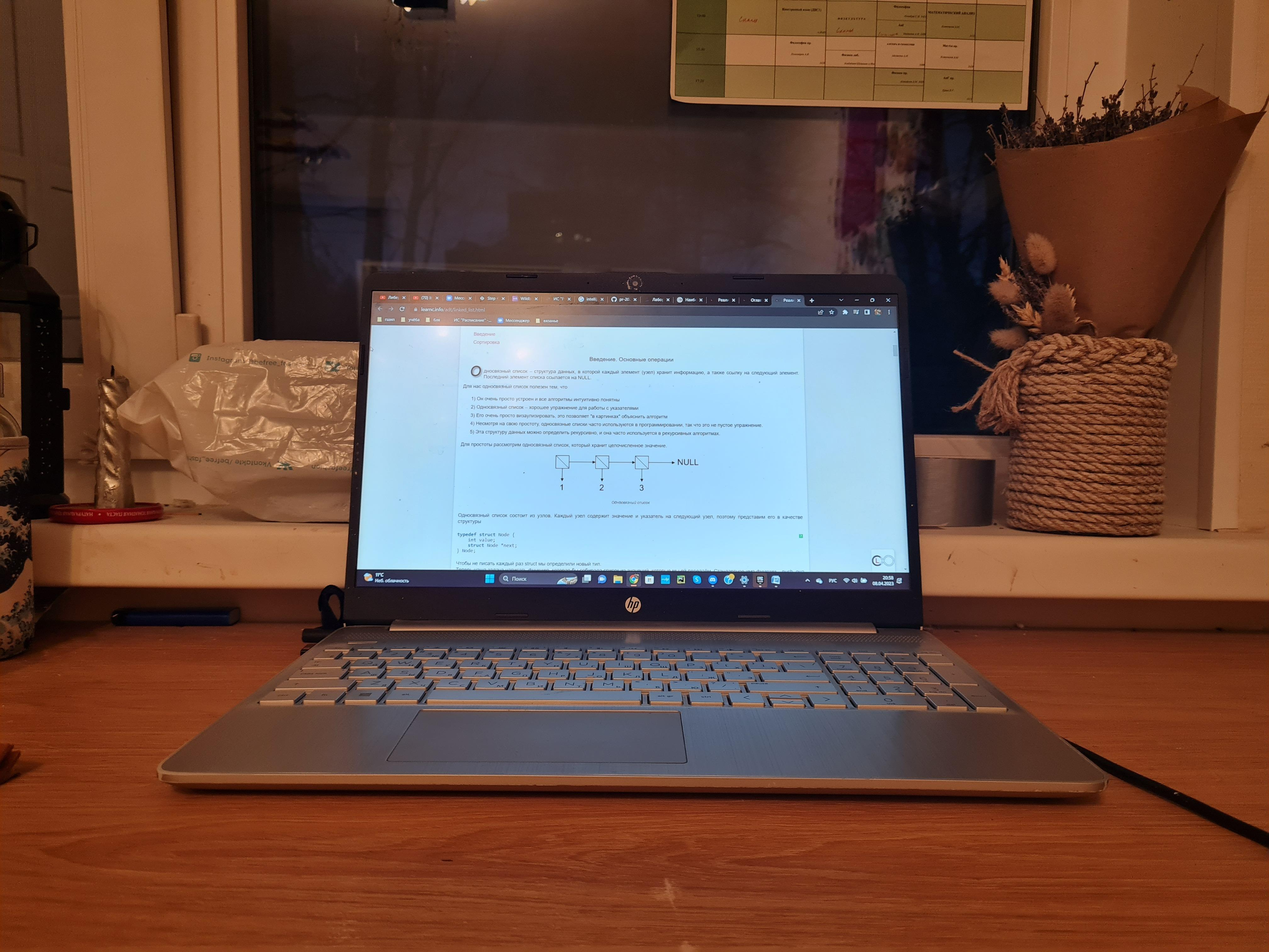monitor: (338, 267, 925, 626)
